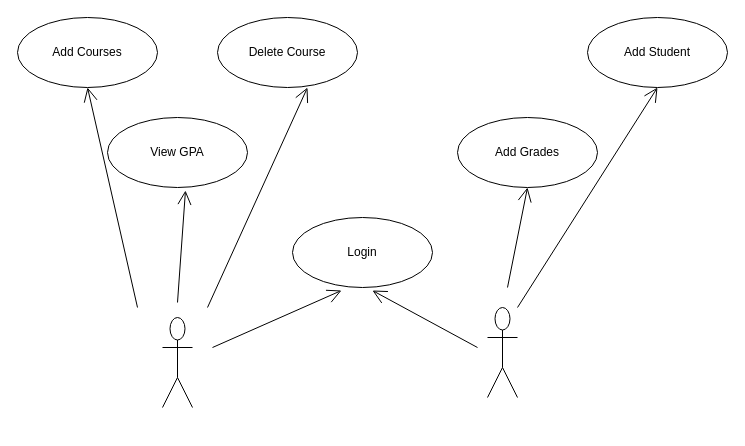
Image size: 745x446. Some labels were removed from this diagram. The centre of each missing label's shape, as x and y in pixels:
Admin: (x=502, y=352)
Student: (x=177, y=362)
